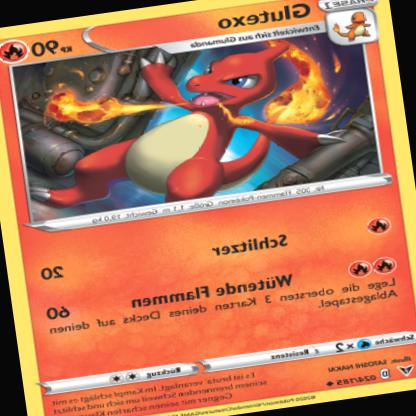Charmeleon: (12, 35, 339, 221)
